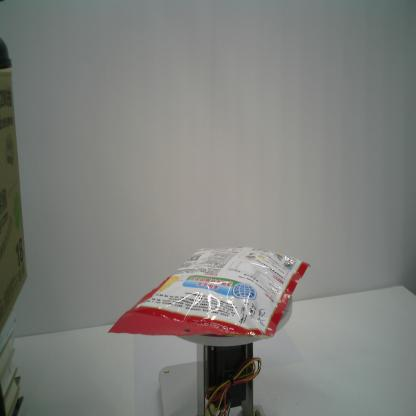Instant Drink: (105, 245, 313, 342)
